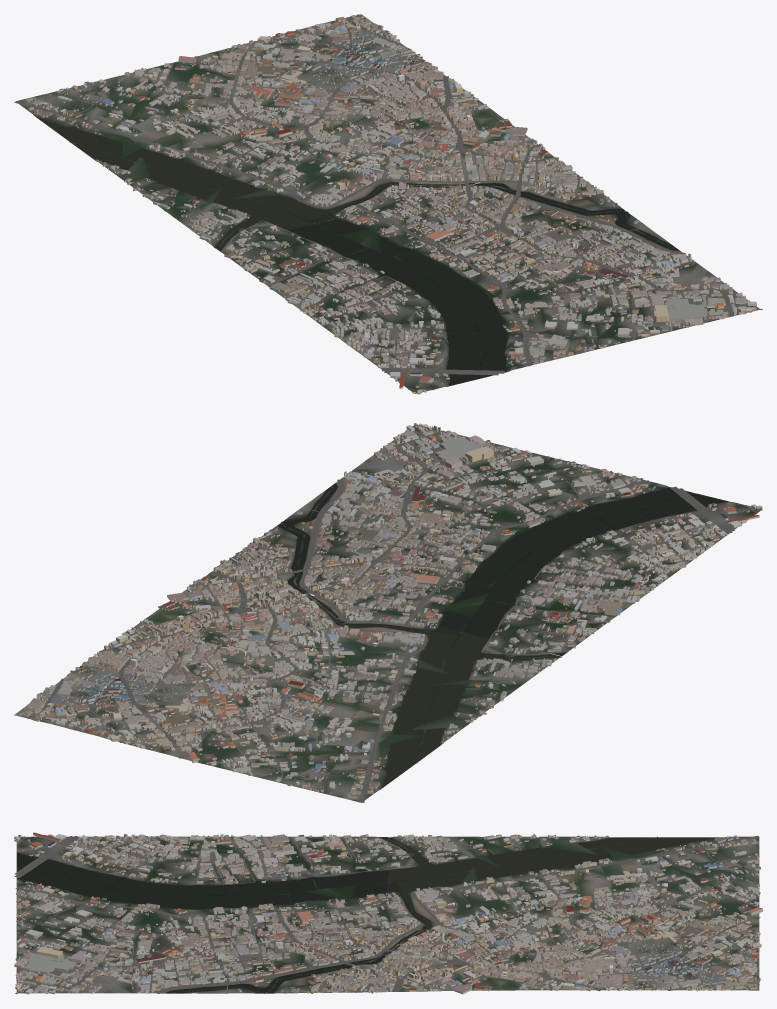
3 renders of one model, top to bottom at view 1: azimuth 30°, elevation 25°; view 2: azimuth 150°, elevation 25°; view 3: azimuth 270°, elevation 25°, orthographic. The views are drawn at different scales.
Visible parts, largest first — view 1: buildings, ground, water, roads; view 2: buildings, ground, water, roads; view 3: buildings, ground, water, roads.
Boxes of the visible parts, bbox=[...] form: buildings: bbox=[24, 14, 756, 394]; ground: bbox=[15, 14, 758, 393]; water: bbox=[36, 116, 680, 385]; roads: bbox=[14, 16, 762, 390]; buildings: bbox=[19, 423, 762, 799]; ground: bbox=[14, 425, 759, 802]; water: bbox=[277, 483, 727, 788]; roads: bbox=[20, 423, 757, 802]; buildings: bbox=[14, 832, 762, 994]; ground: bbox=[16, 836, 759, 993]; water: bbox=[17, 836, 719, 993]; roads: bbox=[14, 835, 760, 993].
Size of the model in its own units: 1454 by 42.59 by 2825.
